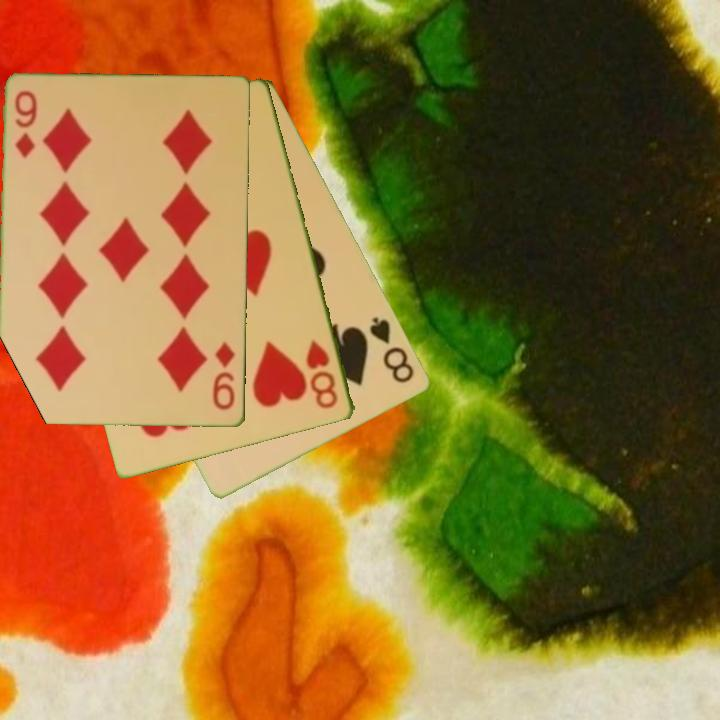8h: (303, 336, 342, 412)
8s: (366, 313, 418, 387)
9d: (210, 339, 239, 413), (11, 88, 40, 161)
